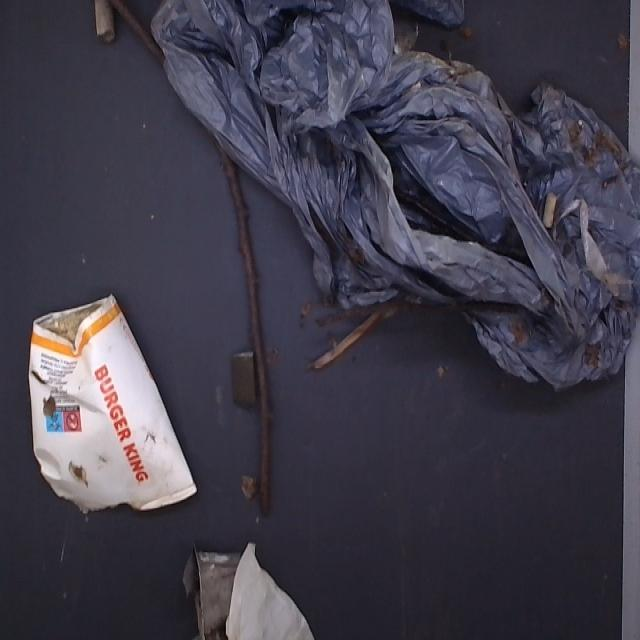food_packaging: (13, 286, 213, 528)
food_wrapping: (123, 0, 640, 391)
plastic_cups: (187, 546, 313, 640)
